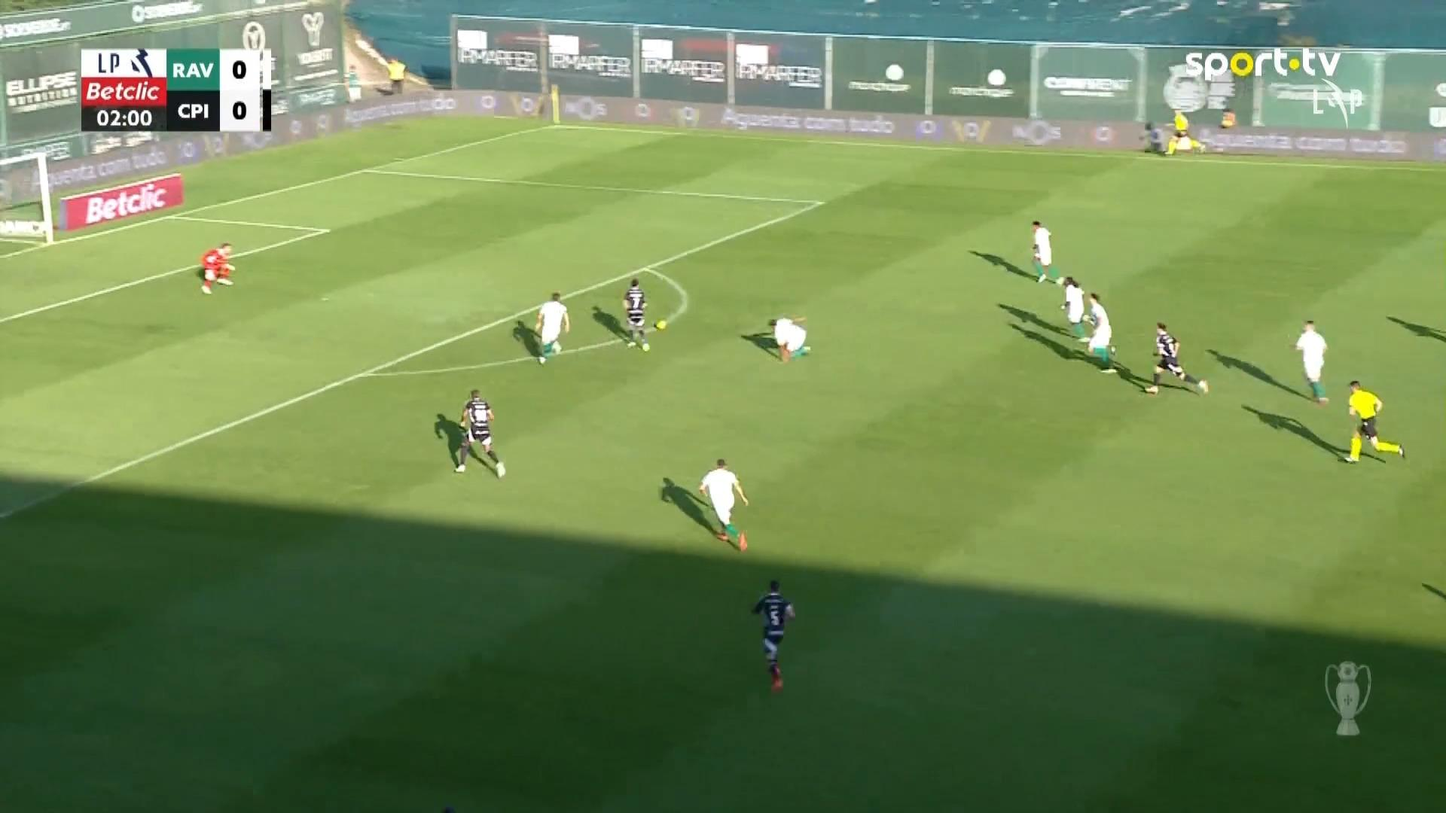ball: (654, 319, 666, 330)
goalkeeper: (198, 242, 235, 294)
player: (750, 578, 795, 692), (697, 457, 749, 551), (1143, 321, 1209, 395), (453, 388, 506, 478), (1293, 319, 1329, 404), (1081, 291, 1117, 371), (532, 291, 569, 365), (621, 277, 650, 352), (1055, 275, 1087, 340), (767, 315, 810, 362), (1030, 219, 1052, 282)
referee: (1339, 379, 1406, 463), (1165, 109, 1204, 155)
